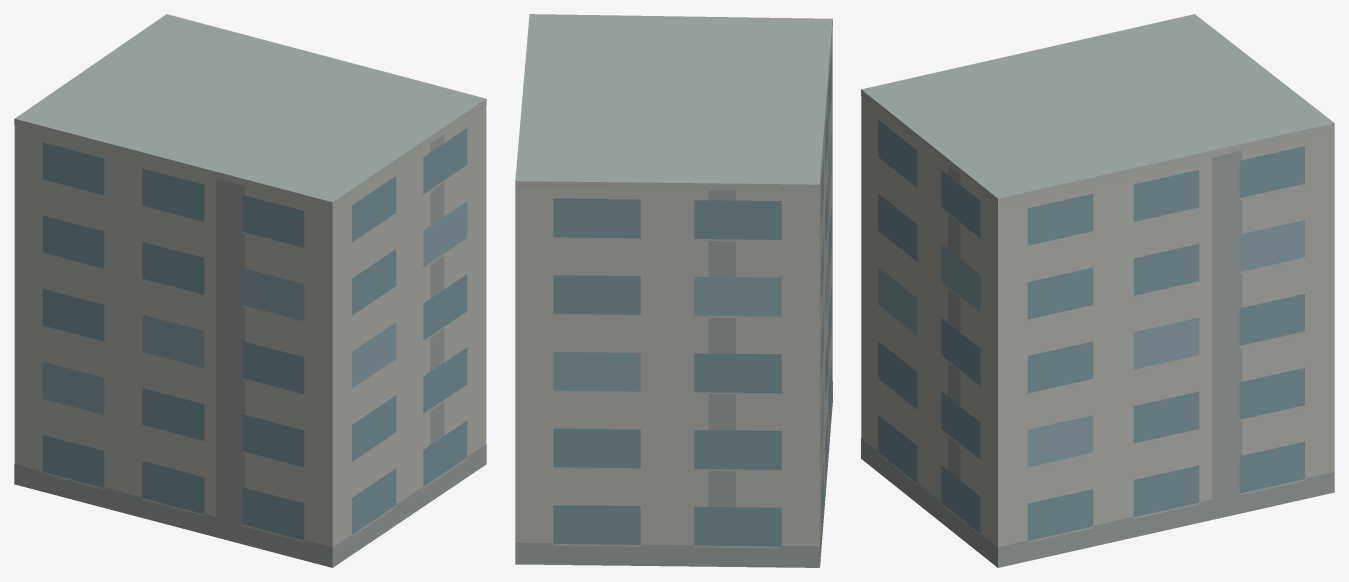
File: survey-upis-32894202.glb
3 views of the same model, side by side, from view 1: azimuth 30°, elevation 25°; view 2: azimuth 150°, elevation 25°; view 3: azimuth 270°, elevation 25° (orthographic). The views are drawn at different scales.
Visible parts, largest first — view 1: survey-upis-32894202.tmp; view 2: survey-upis-32894202.tmp; view 3: survey-upis-32894202.tmp.
Part boxes in pixels (bbox=[...]): survey-upis-32894202.tmp: bbox=[14, 14, 486, 567]; survey-upis-32894202.tmp: bbox=[515, 14, 832, 567]; survey-upis-32894202.tmp: bbox=[861, 14, 1334, 567].
Size of the model in its own units: 14.16 by 13.2 by 15.35.
